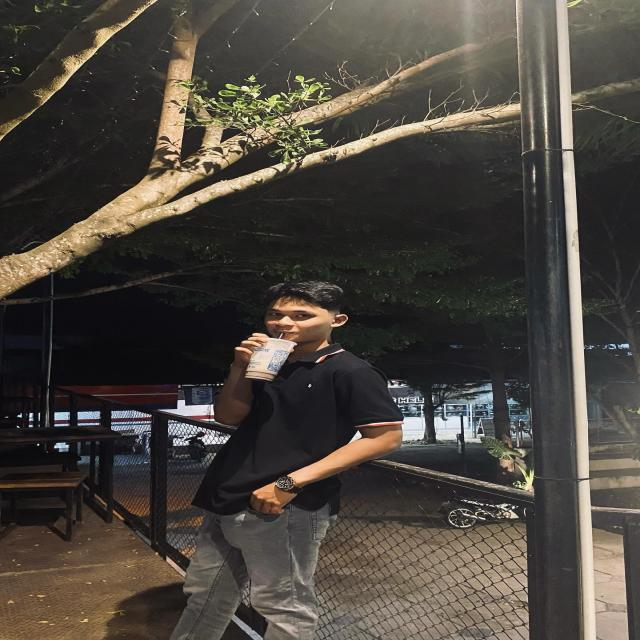nohelmet: (258, 269, 354, 342)
